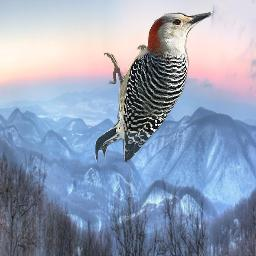Woodpecker: (95, 11, 214, 162)
